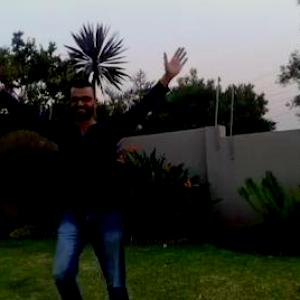takeoff: (1, 52, 189, 299)
